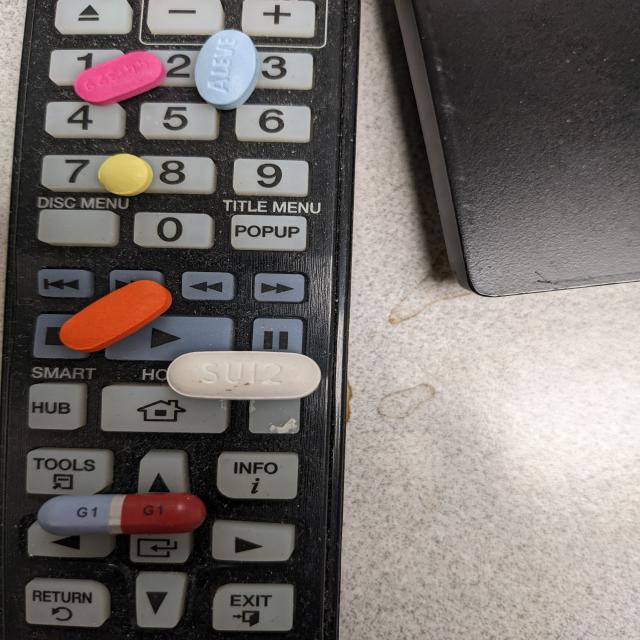non-organic waste: (57, 278, 174, 353), (165, 349, 322, 401), (35, 491, 208, 537), (192, 29, 262, 111), (72, 49, 168, 107), (96, 152, 155, 197)
